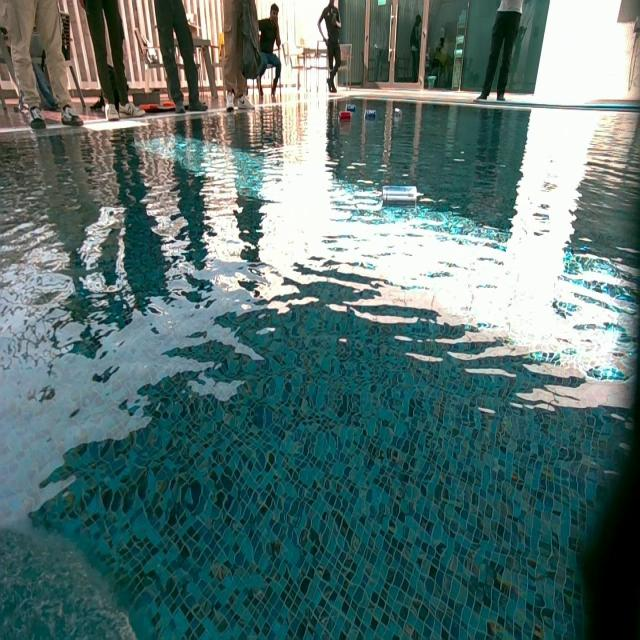Cans: (382, 184, 420, 208), (364, 109, 376, 119), (346, 104, 357, 114), (341, 112, 352, 121), (394, 107, 402, 115)
